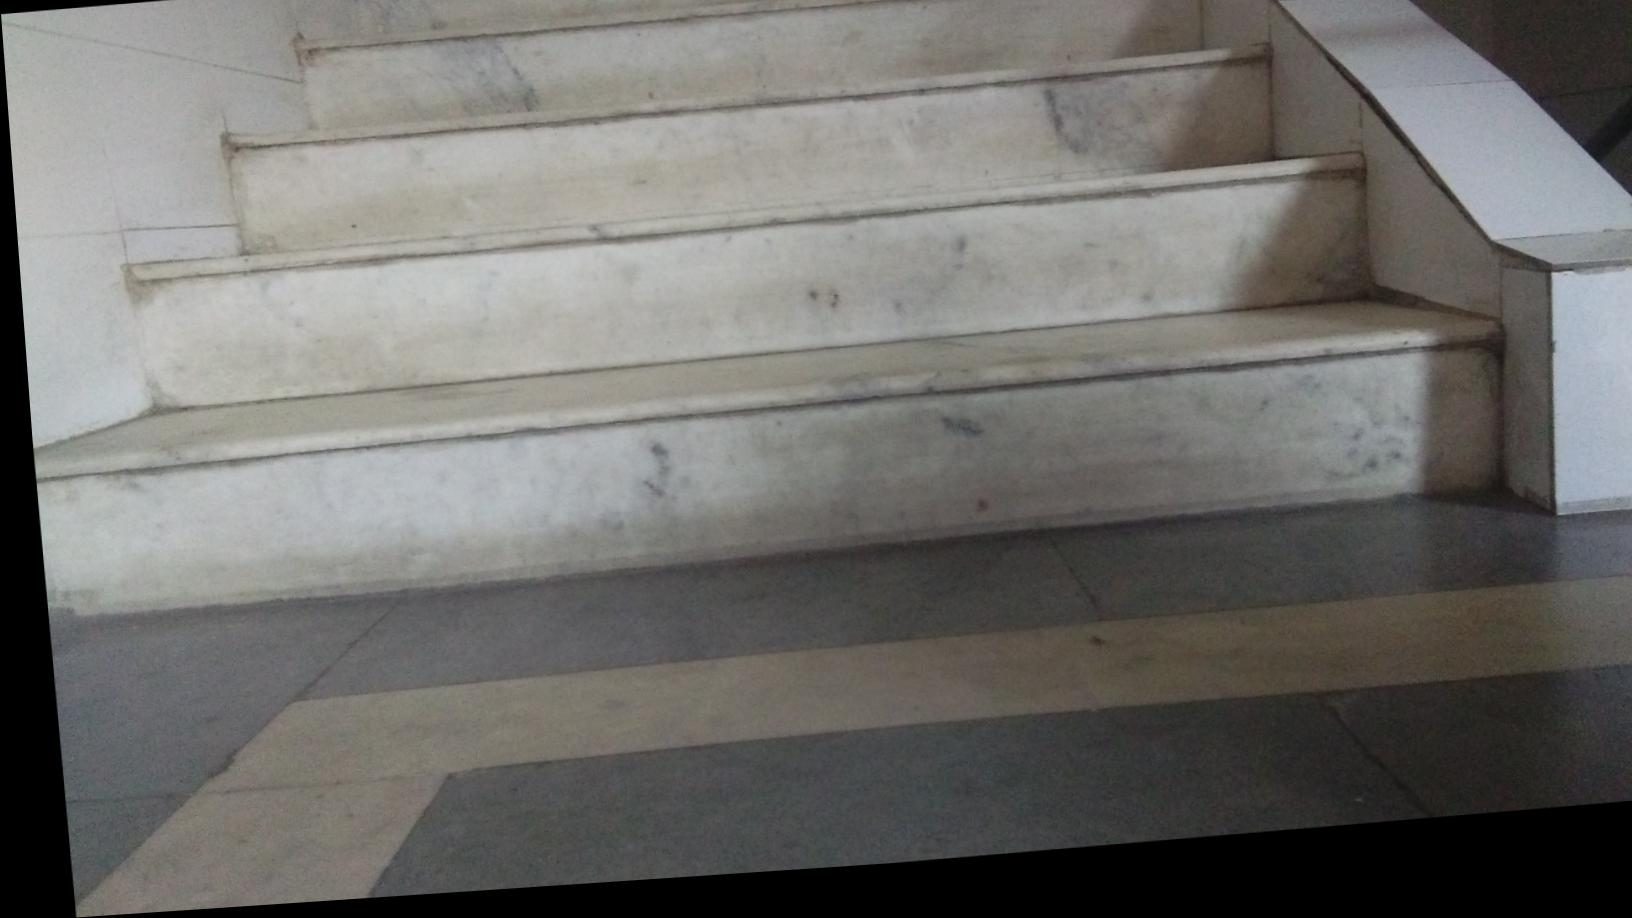Bench: (0, 0, 1515, 608)
